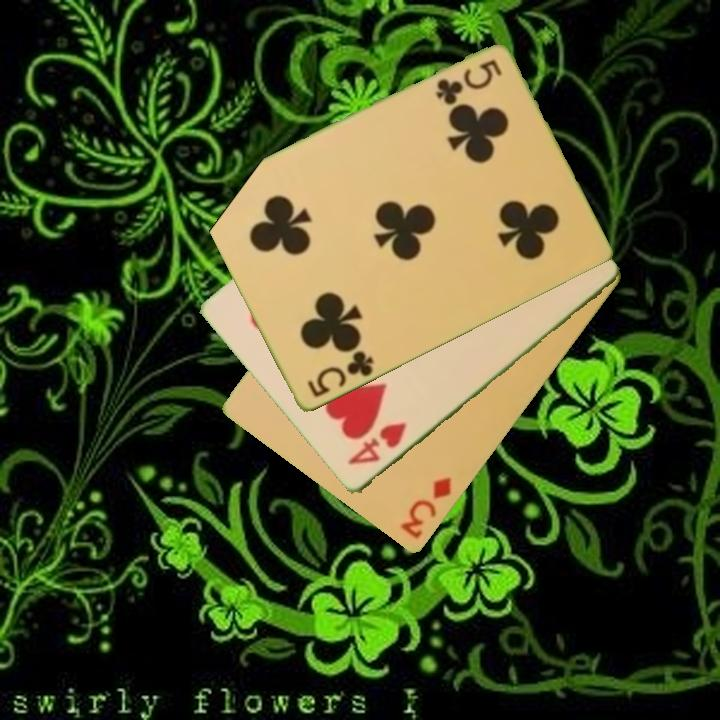3d: (397, 474, 455, 543)
4h: (344, 419, 410, 469)
5c: (303, 347, 377, 401), (432, 56, 505, 108)
